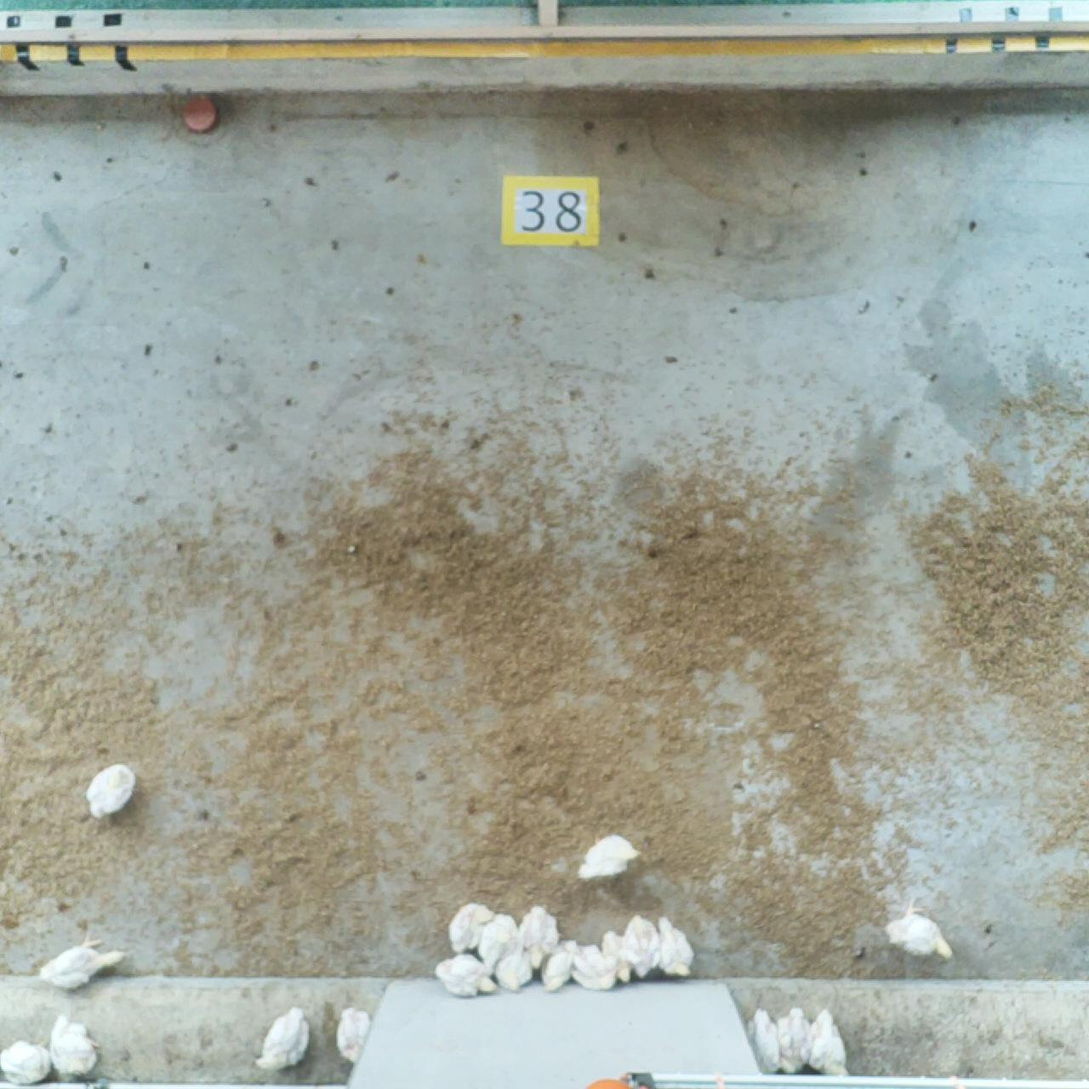chicken: (32, 923, 129, 997), (876, 892, 963, 961), (253, 1001, 316, 1076), (573, 824, 642, 885), (48, 1009, 104, 1082), (81, 758, 141, 824), (804, 1004, 855, 1080), (431, 946, 495, 1001), (519, 900, 563, 976), (651, 912, 698, 980), (567, 934, 621, 993), (616, 908, 660, 980), (773, 1002, 815, 1076), (741, 1003, 783, 1076), (443, 899, 497, 955), (330, 999, 373, 1068), (0, 1036, 57, 1088), (475, 907, 517, 975), (535, 932, 577, 995), (598, 923, 638, 986), (490, 947, 532, 993)
